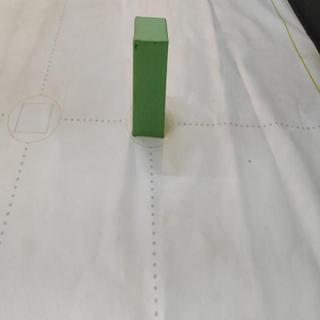greenbox: (129, 15, 168, 139)
